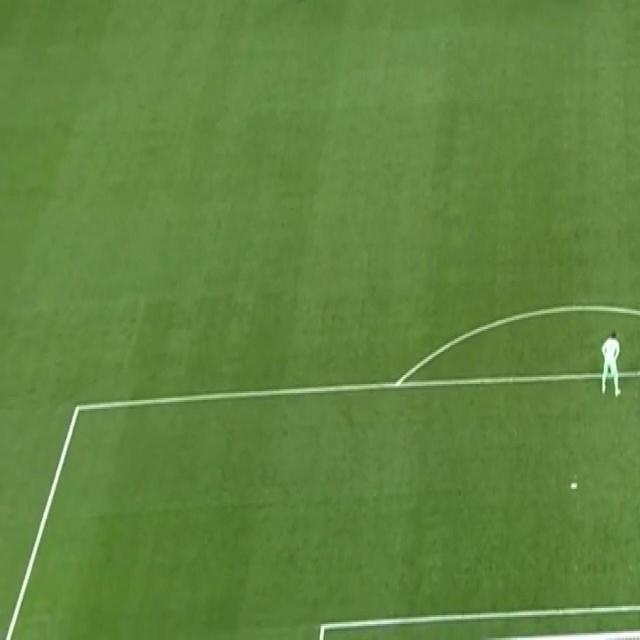player-white: (598, 326, 624, 400), (290, 0, 309, 2), (549, 0, 561, 2)
